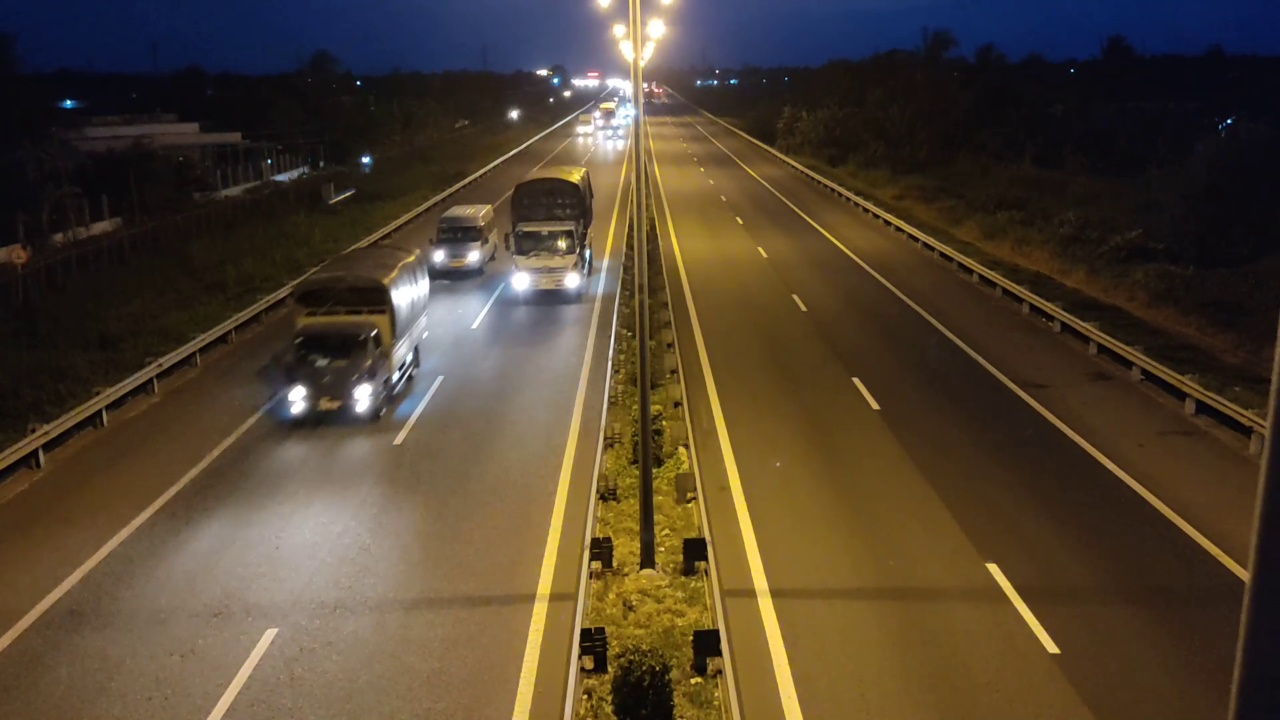car: (424, 195, 499, 277)
truck: (280, 245, 435, 424), (509, 163, 595, 303)
